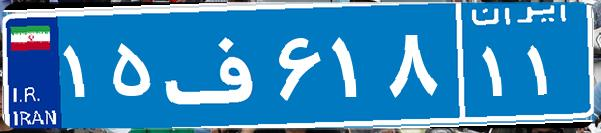1: (330, 28, 385, 110), (57, 26, 110, 107), (475, 38, 525, 113), (525, 38, 570, 115)
5: (110, 28, 158, 105)
6: (273, 28, 330, 110)
8: (385, 28, 445, 110)
ف: (158, 15, 273, 115)
